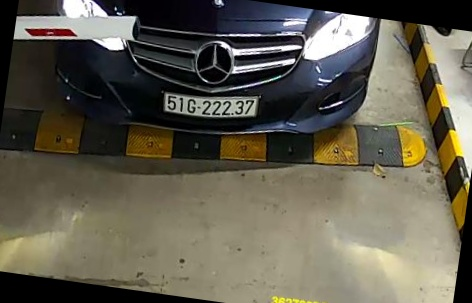plate: (162, 89, 259, 122)
